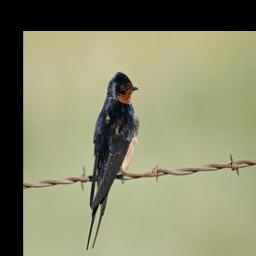Swallow: (83, 69, 139, 251)
